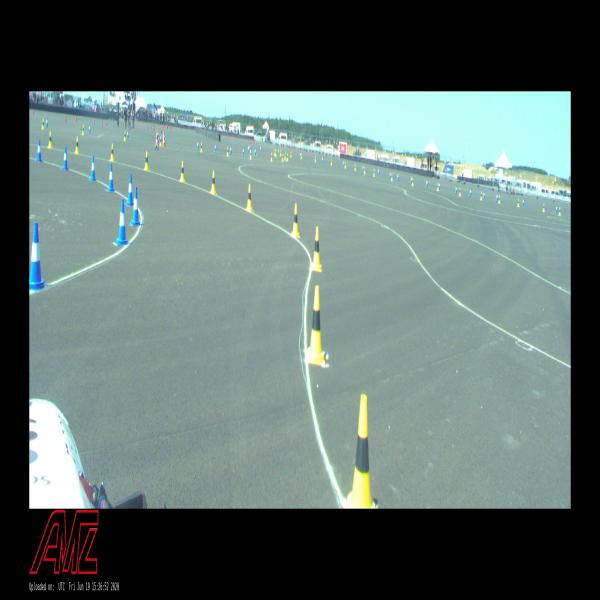blue_cone: (30, 222, 49, 292), (116, 199, 128, 246), (130, 186, 141, 226), (125, 174, 134, 206), (106, 164, 116, 192), (89, 153, 97, 182), (35, 139, 43, 162), (62, 145, 68, 171), (214, 142, 217, 152), (88, 124, 91, 133), (555, 204, 558, 213), (229, 146, 232, 154), (438, 182, 441, 190), (46, 116, 48, 127), (197, 140, 199, 150), (242, 146, 244, 156), (127, 130, 129, 139), (321, 156, 324, 162), (455, 185, 457, 194), (362, 164, 364, 172), (426, 179, 428, 187), (470, 188, 472, 196), (483, 191, 485, 199), (496, 193, 498, 201), (522, 198, 524, 206), (378, 167, 380, 174), (389, 171, 391, 178), (396, 173, 398, 180), (410, 176, 412, 183), (255, 148, 256, 156), (248, 145, 249, 152), (260, 145, 261, 152), (300, 152, 301, 159), (278, 148, 279, 154), (343, 160, 344, 166), (128, 123, 129, 128)
large_orange_cone: (162, 131, 166, 147), (155, 130, 158, 145), (157, 128, 159, 143)
orange_cone: (93, 116, 95, 125), (65, 114, 67, 122), (102, 120, 104, 128), (75, 115, 77, 122), (105, 120, 107, 127), (166, 123, 168, 130), (107, 120, 109, 126), (131, 123, 133, 129), (129, 124, 131, 130), (169, 127, 171, 133), (147, 124, 149, 129), (33, 109, 34, 115), (141, 123, 142, 129), (153, 122, 154, 128), (154, 126, 155, 131), (163, 126, 164, 131), (151, 125, 152, 129), (150, 123, 150, 128)
yellow_cone: (345, 393, 376, 509), (306, 284, 325, 366), (310, 226, 322, 272), (291, 202, 300, 238), (245, 182, 254, 212), (209, 170, 216, 195), (179, 160, 186, 183), (144, 151, 150, 171), (109, 143, 115, 162), (74, 136, 80, 154), (48, 130, 52, 149), (200, 141, 203, 153), (226, 146, 229, 157), (270, 152, 273, 162), (517, 198, 520, 208), (558, 206, 561, 216), (42, 117, 44, 130), (82, 123, 84, 135), (159, 135, 161, 147), (249, 151, 252, 159), (314, 156, 317, 163), (354, 164, 357, 171), (124, 131, 126, 141), (480, 190, 482, 200), (542, 202, 544, 212), (282, 153, 284, 162), (344, 161, 346, 170), (373, 168, 375, 177), (459, 187, 461, 196), (498, 195, 500, 204), (280, 148, 282, 156), (284, 152, 286, 160), (286, 153, 288, 161), (290, 150, 292, 158), (364, 166, 366, 174), (391, 173, 393, 181), (412, 178, 414, 186), (437, 183, 439, 191), (274, 150, 276, 157), (301, 152, 302, 160), (331, 158, 332, 166)
